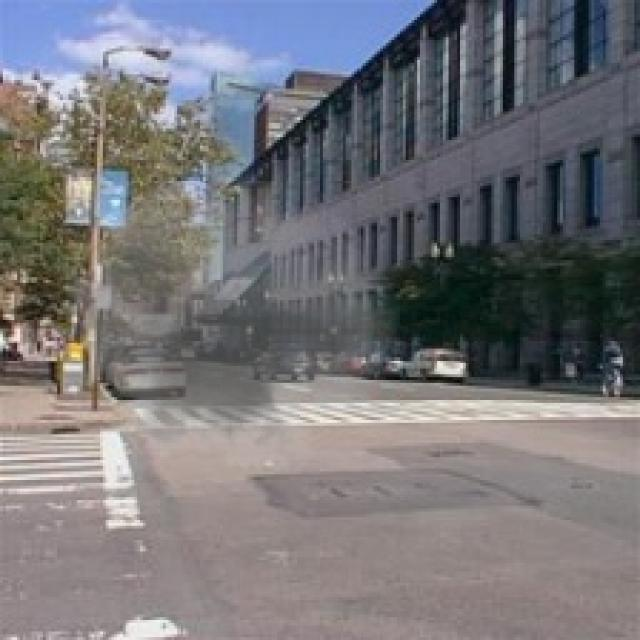Smoke: (48, 137, 400, 489)
